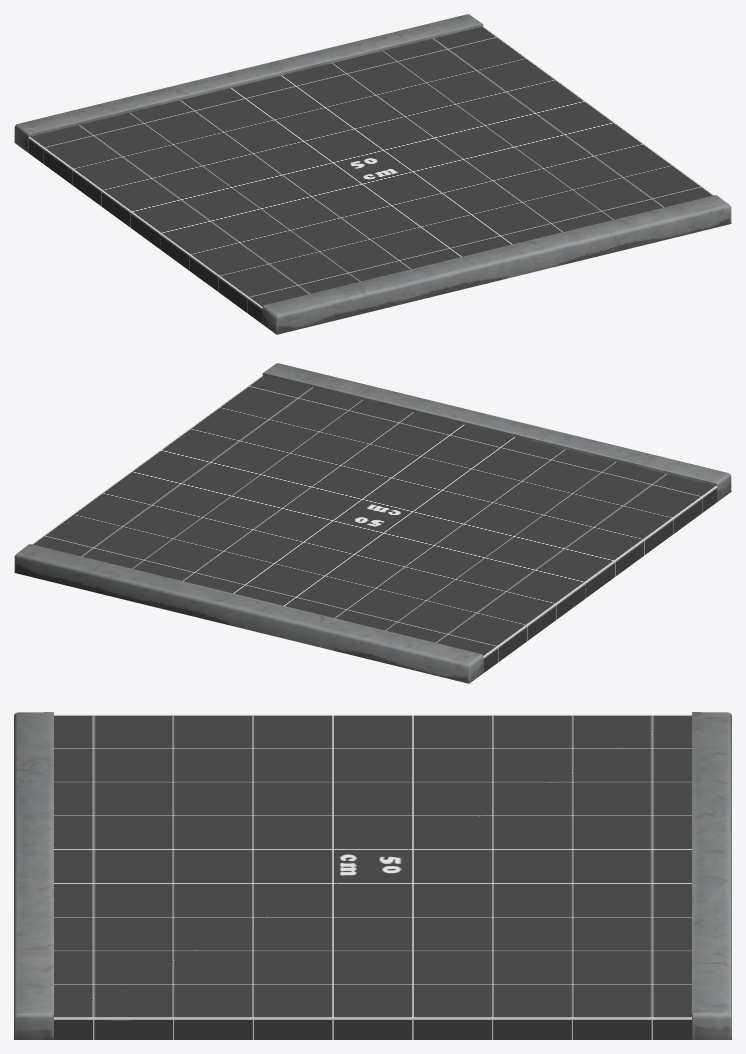
The model's file is M02SideWalk01_6.FBX.
The picture shows the model from 3 angles, top to bottom: view 1: azimuth 30°, elevation 25°; view 2: azimuth 150°, elevation 25°; view 3: azimuth 270°, elevation 25°; orthographic projection. The views are drawn at different scales.
Visible parts, largest first — view 1: M02SideWalk01_6; view 2: M02SideWalk01_6; view 3: M02SideWalk01_6.
Part boxes in pixels (x1,y1,x2,y2): M02SideWalk01_6: (14, 14, 731, 334); M02SideWalk01_6: (14, 363, 731, 683); M02SideWalk01_6: (14, 712, 731, 1039).
Size of what is drawn, in the model's own units: 4.5 by 0.1783 by 4.5.
